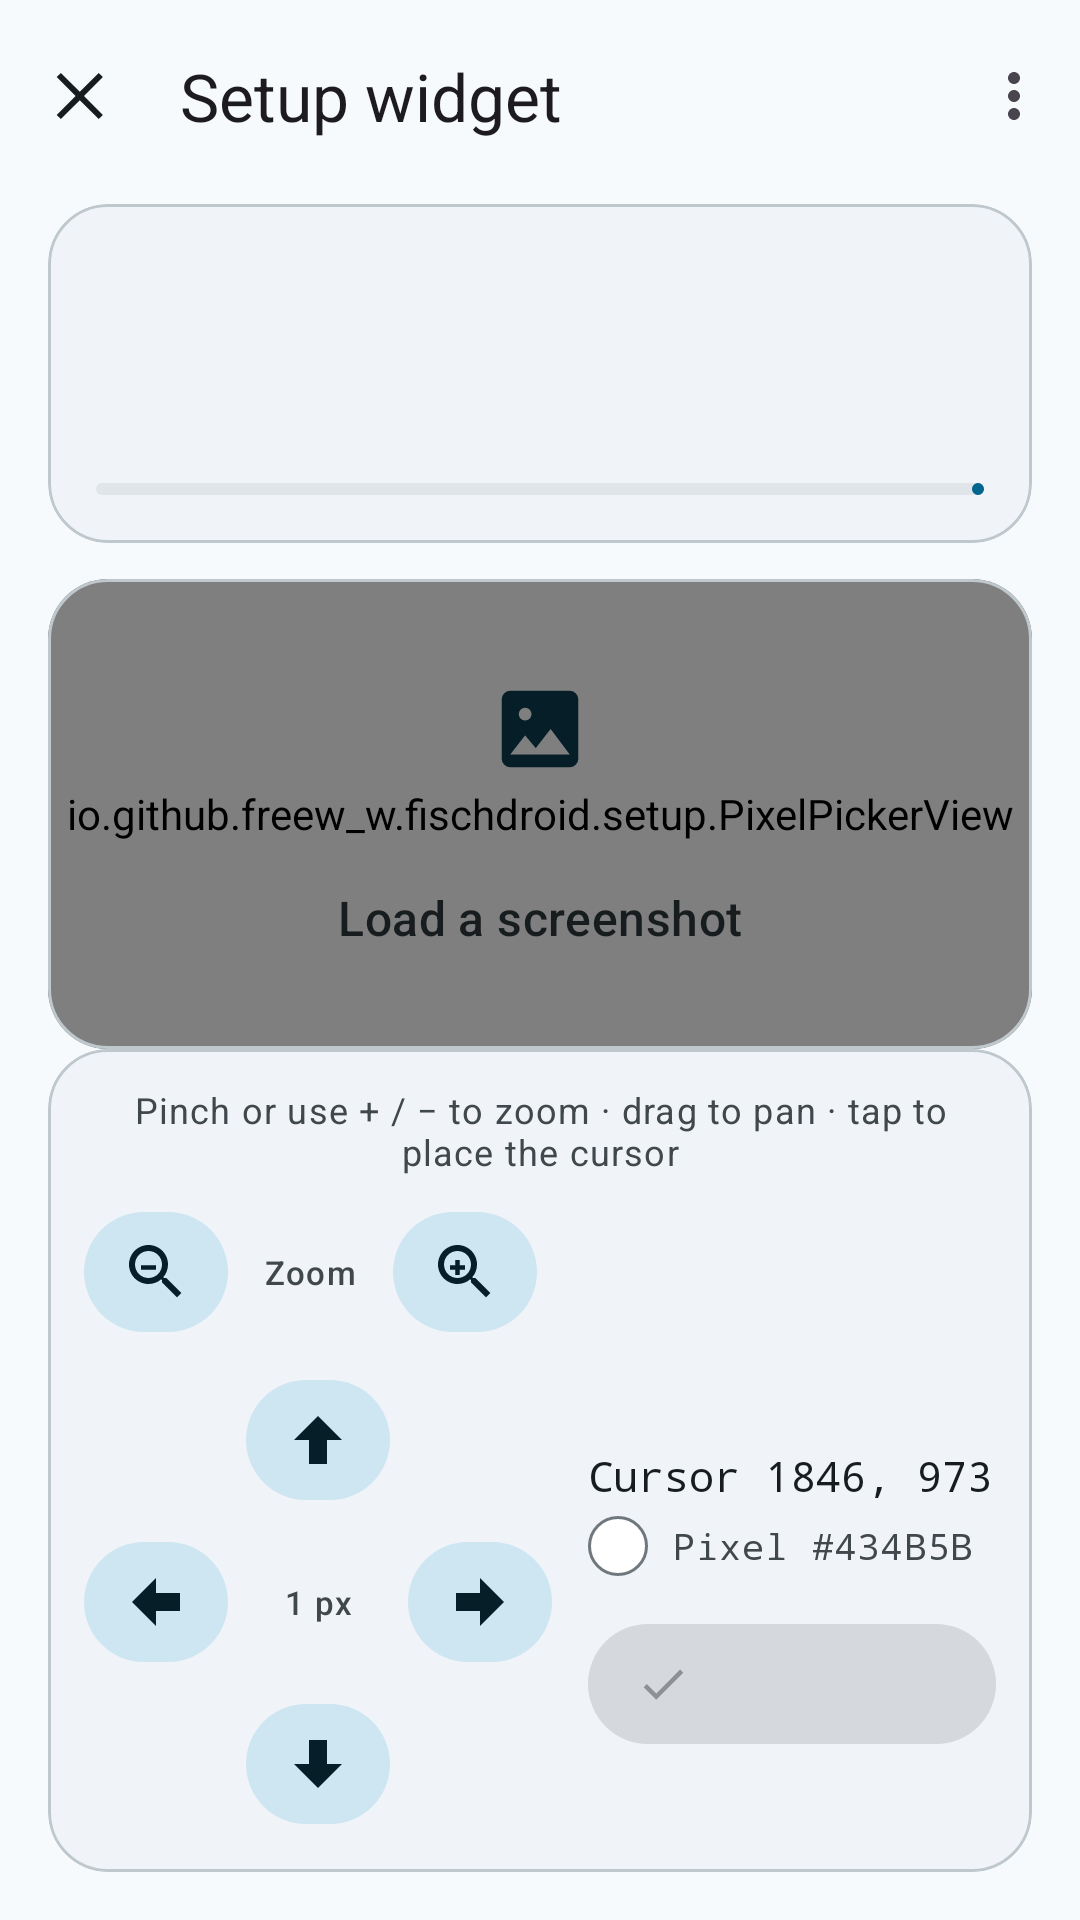

Icon click points for this 1080 x 1920 phone screenshot, format point (x, y):
Nudge down one pixel: point (318, 1764)
Nudge left one pixel: point (156, 1602)
Nudge right one pixel: point (480, 1602)
Nudge up one pixel: point (318, 1440)
photo: point (540, 729)
